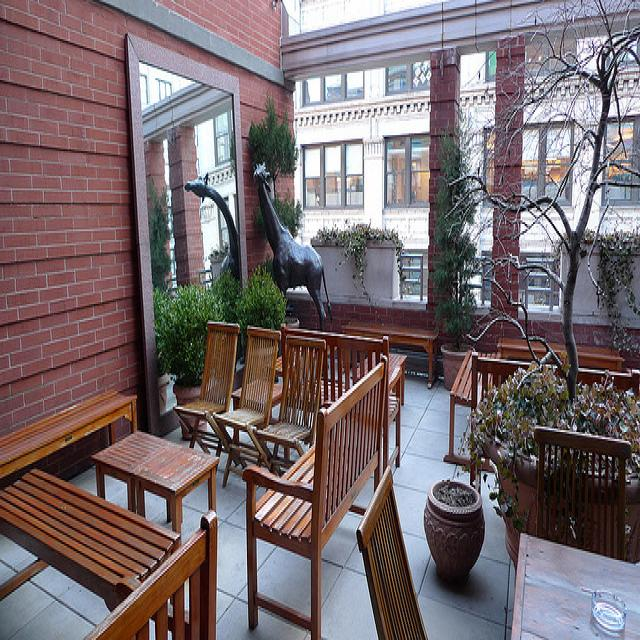chair: (79, 512, 218, 640), (533, 425, 632, 559), (358, 465, 432, 639), (215, 323, 283, 487), (247, 336, 326, 476), (173, 322, 240, 458)
dining table: (511, 533, 640, 640)
